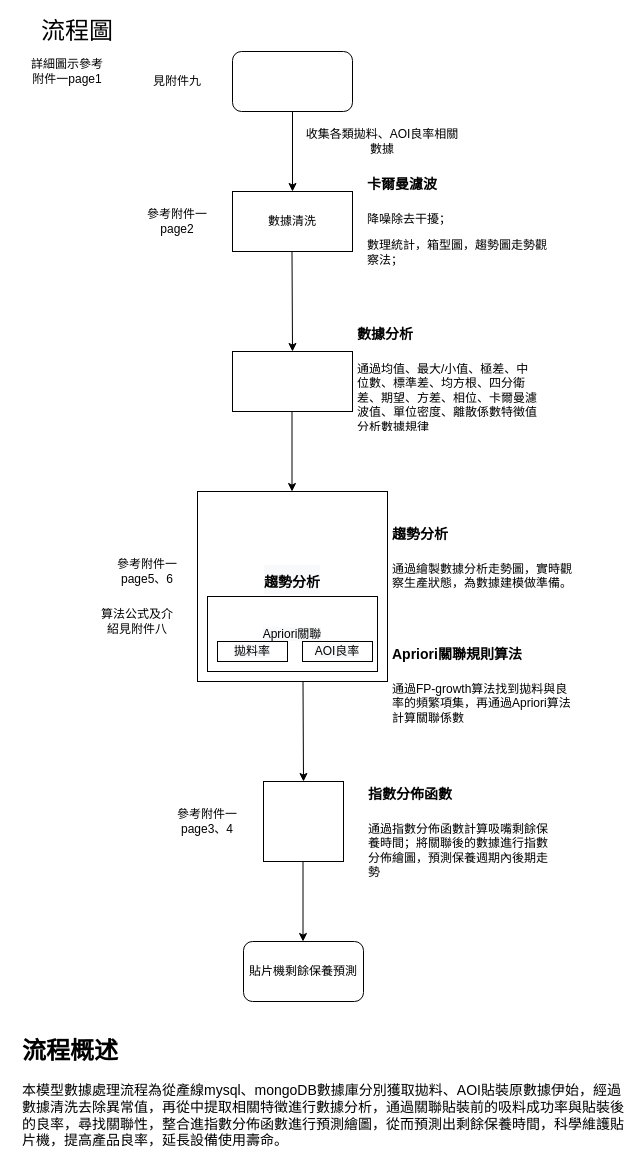
Some shapes in this 644 by 1169 pixel diagram are drawn without their labels. The shapes that lost their labels are listed below. From the top down, each one's box as (x1, y1, x2, y2) in pixels, then its label:
(232, 50, 352, 112): 拋料、AOI原始數據
(232, 350, 352, 412): 特徵提取
(262, 780, 344, 862): 模型構建
